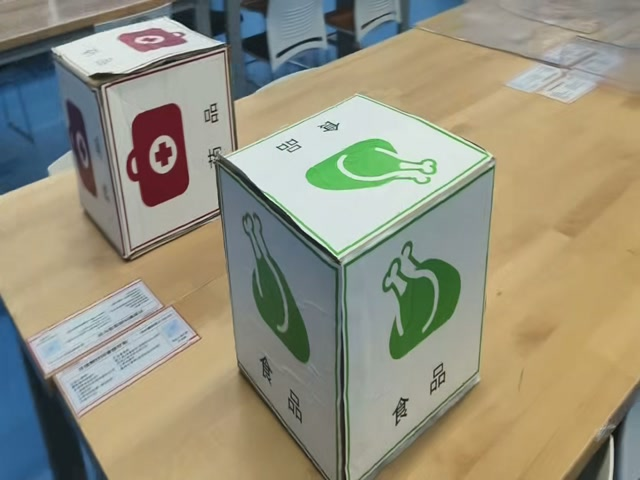Cube_food: (221, 100, 500, 273)
Cube_medicine: (52, 14, 227, 80)
